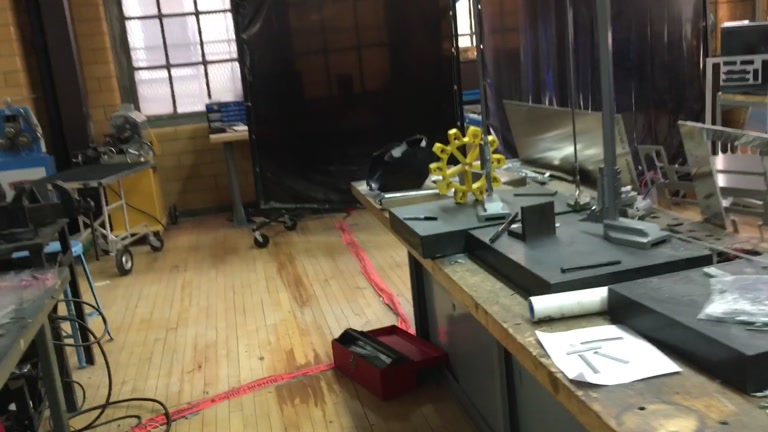gear: (428, 125, 506, 205)
